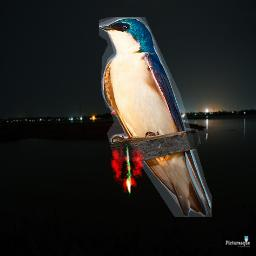Swallow: (99, 17, 212, 217)
